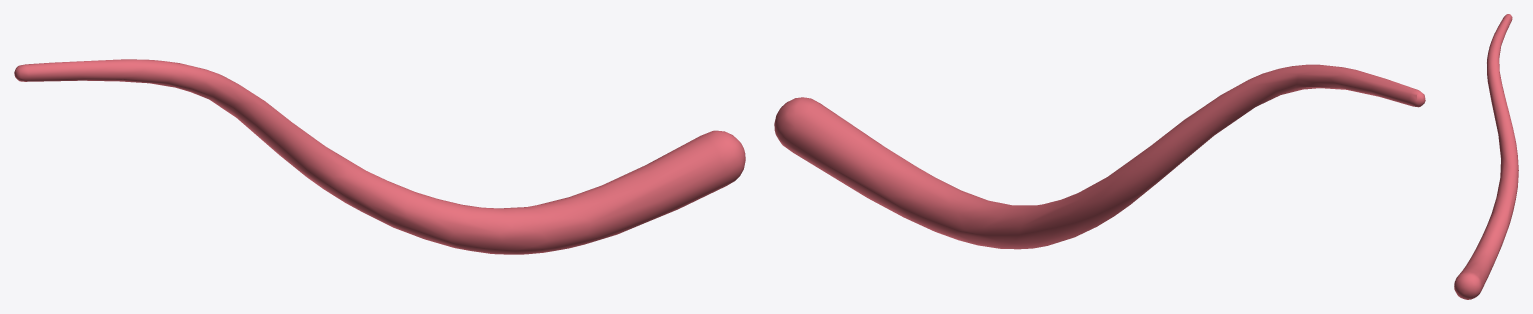
The model's file is fma23068_fj2263.glb.
3 renders of one model, left to right at view 1: azimuth 30°, elevation 25°; view 2: azimuth 150°, elevation 25°; view 3: azimuth 270°, elevation 25°, orthographic. The views are drawn at different scales.
Visible parts, largest first — view 1: FMA23068_FJ2263; view 2: FMA23068_FJ2263; view 3: FMA23068_FJ2263.
Boxes of the visible parts, <box> form: FMA23068_FJ2263: <box>14,59,745,254</box>; FMA23068_FJ2263: <box>774,64,1425,249</box>; FMA23068_FJ2263: <box>1454,14,1518,299</box>.
Bounding box in the file's own units: 0.0441 × 0.0175 × 0.00721.
